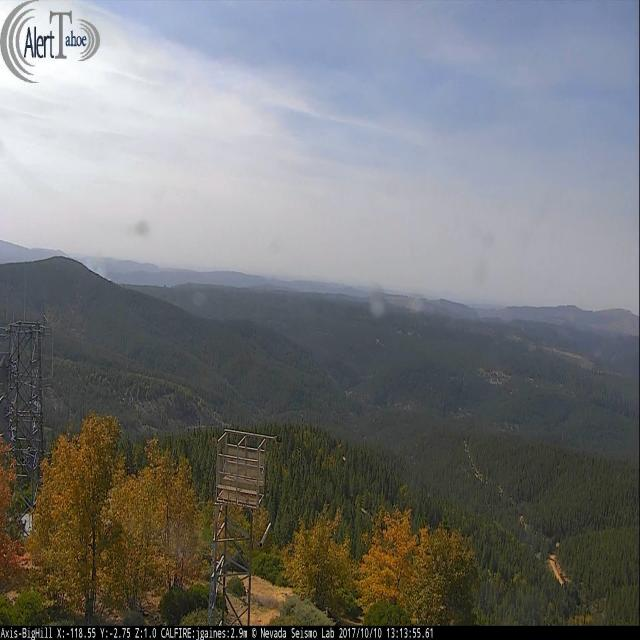smoke: (86, 257, 109, 281)
